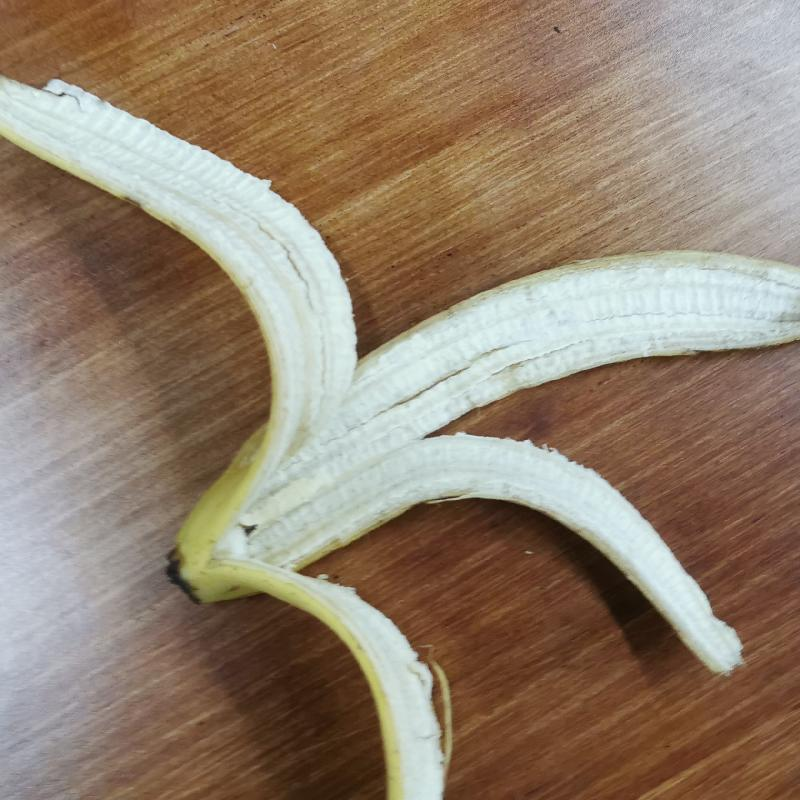bananas: (10, 37, 799, 799)
